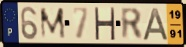6: (20, 5, 40, 42)
7: (72, 6, 90, 41)
A: (142, 7, 171, 42)
H: (93, 7, 116, 42)
M: (39, 6, 68, 40)
R: (119, 6, 145, 41)
